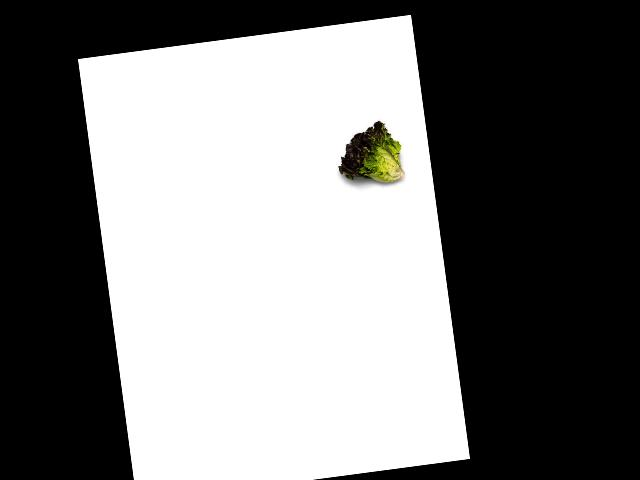lettuce: (329, 119, 407, 189)
